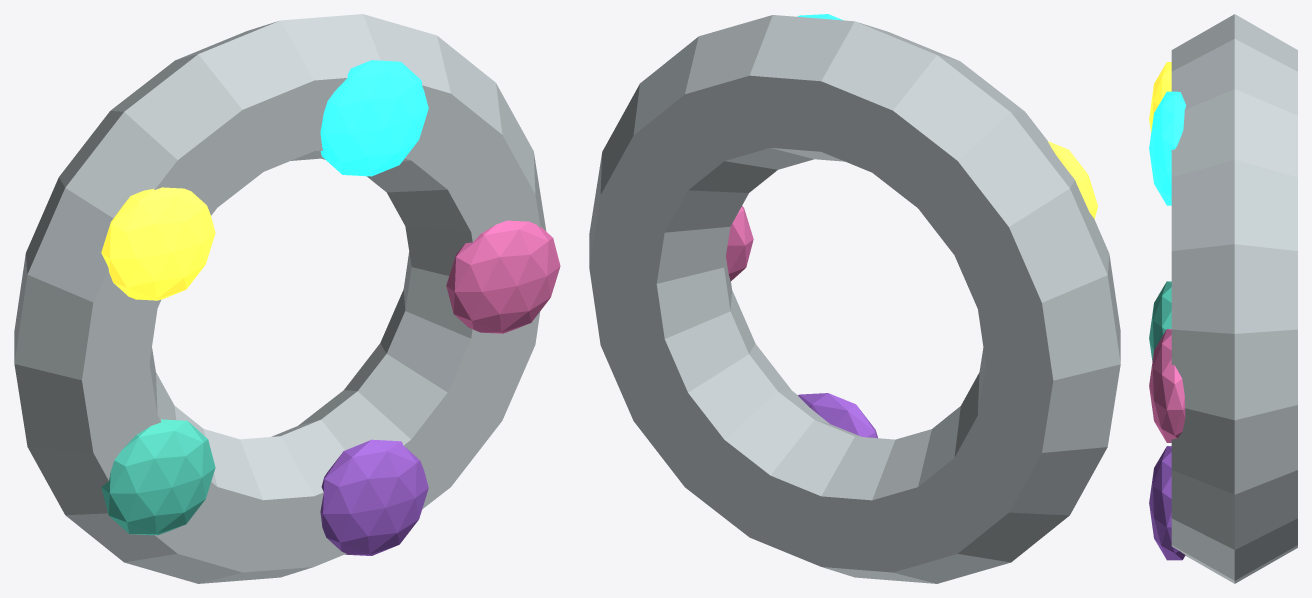
File: software_disc.glb
3 views of the same model, side by side, from view 1: azimuth 30°, elevation 25°; view 2: azimuth 150°, elevation 25°; view 3: azimuth 270°, elevation 25° (orthographic). The views are drawn at different scales.
Parts seen in each view (by area): view 1: Disc, DataBit.002, DataBit.004, DataBit, DataBit.001, DataBit.003; view 2: Disc, DataBit.004, DataBit, DataBit.002; view 3: Disc, DataBit, DataBit.001, DataBit.004, DataBit.003, DataBit.002.
Part boxes in pixels (left/top/right/bottom): Disc: left=14, top=14, right=546, bottom=583; DataBit.002: left=101, top=187, right=215, bottom=300; DataBit.004: left=320, top=439, right=428, bottom=555; DataBit: left=446, top=220, right=560, bottom=333; DataBit.001: left=320, top=60, right=428, bottom=176; DataBit.003: left=101, top=419, right=215, bottom=535; Disc: left=589, top=15, right=1120, bottom=583; DataBit.004: left=798, top=393, right=877, bottom=438; DataBit: left=726, top=206, right=753, bottom=281; DataBit.002: left=1048, top=141, right=1097, bottom=218; Disc: left=1171, top=14, right=1297, bottom=583; DataBit: left=1149, top=329, right=1185, bottom=442; DataBit.001: left=1149, top=91, right=1186, bottom=205; DataBit.004: left=1149, top=446, right=1185, bottom=560; DataBit.003: left=1149, top=281, right=1171, bottom=360; DataBit.002: left=1149, top=62, right=1171, bottom=133.
Bounding box in the file's own units: 1.34 × 1.34 × 0.3472.
